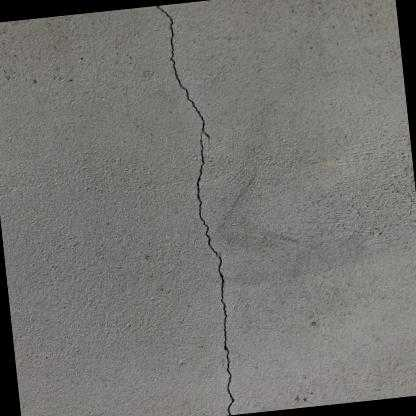crack: (155, 4, 235, 415)
